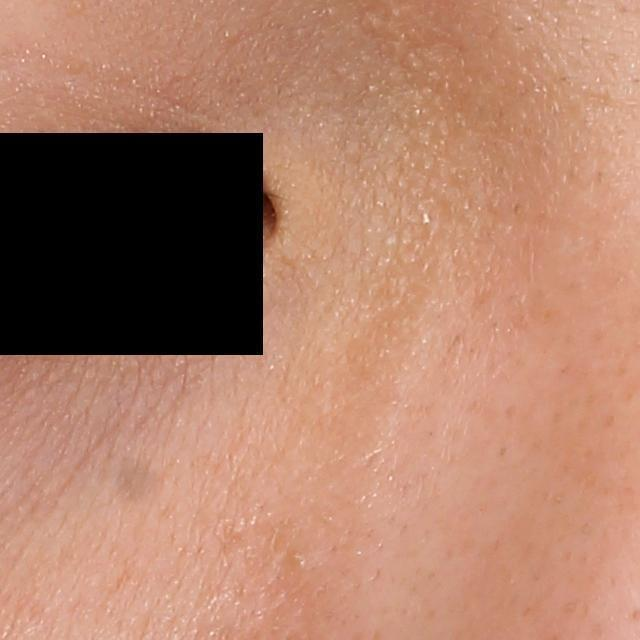comedo: (286, 548, 313, 570)
